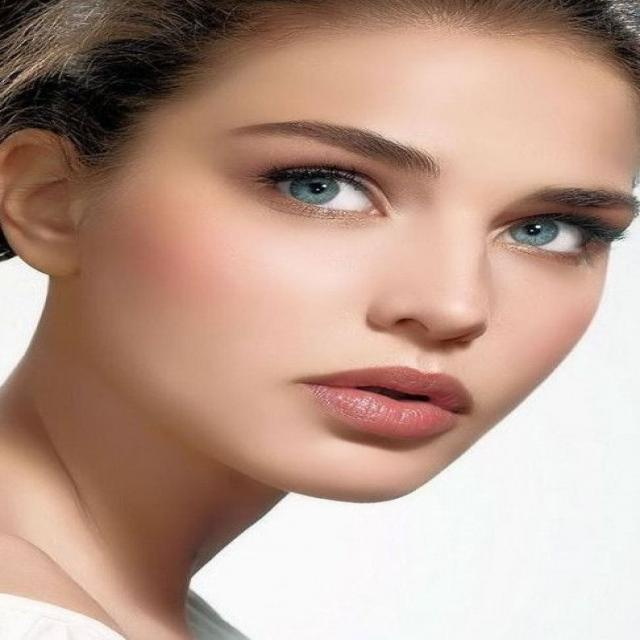earlobe: (0, 128, 88, 280)
